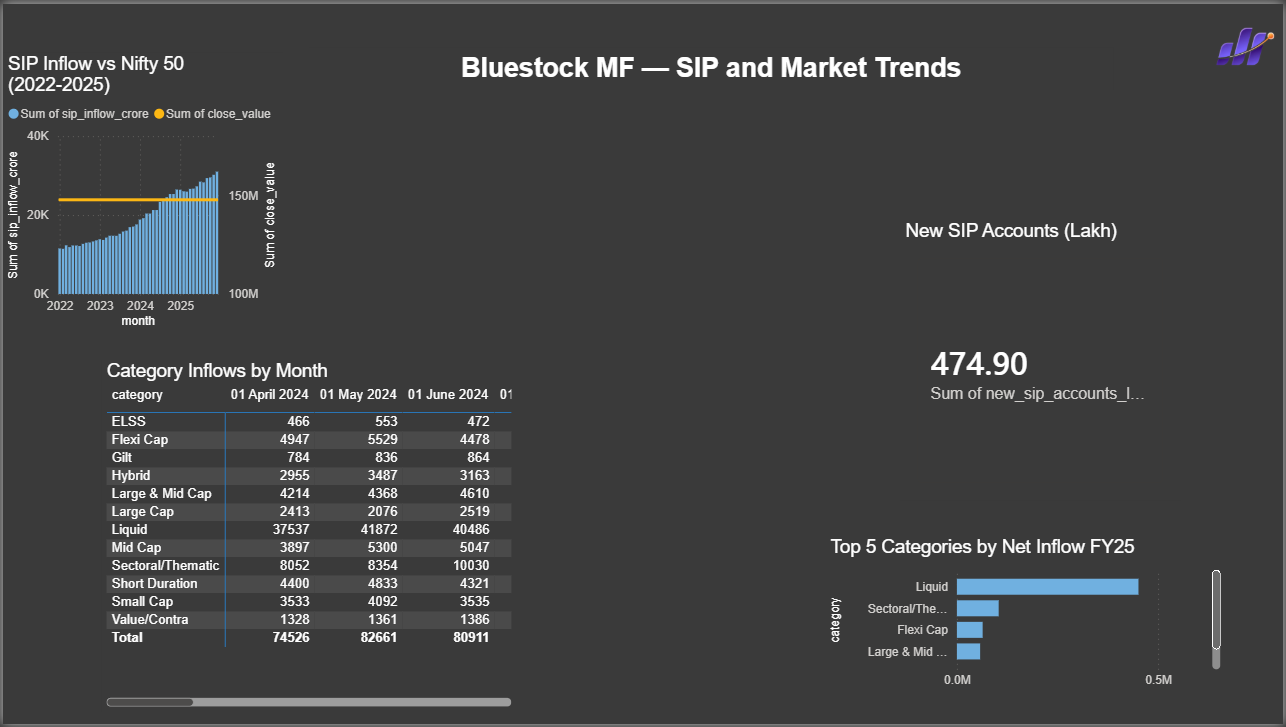

The dashboard page shown, as its layout file describes it:
{"tool":"powerbi","page":{"name":"SIP and Market Trends","canvas":[1280,720],"ordinal":3},"visuals":[{"type":"lineClusteredColumnComboChart","title":"SIP Inflow vs Nifty 50 (2022-2025)","fields":{"Category":["clean_sip_inflows.month"],"Y":["Sum(clean_sip_inflows.sip_inflow_crore)"],"Y2":["Sum(clean_benchmark_indices.close_value)"]},"box":[0,48.6,280,280],"z":0},{"type":"pivotTable","title":"Category Inflows by Month","fields":{"Rows":["clean_category_inflows.category"],"Columns":["clean_category_inflows.month"],"Values":["Sum(clean_category_inflows.net_inflow_crore)"]},"box":[98.6,355.7,414.3,351.4],"z":1},{"type":"clusteredBarChart","title":"Top 5 Categories by Net Inflow FY25","fields":{"Category":["clean_category_inflows.category"],"Y":["Sum(clean_category_inflows.net_inflow_crore)"]},"box":[822,532,400,160],"z":2},{"type":"cardVisual","title":"New SIP Accounts (Lakh)","fields":{"Data":["Sum(clean_sip_inflows.new_sip_accounts_lakh)"]},"box":[898,216,280,280],"z":3},{"type":"textbox","box":[306,44,804,42],"z":4},{"type":"image","box":[1204,0,76,86],"z":5}]}

Visuals, with their boxes in screenshot pixels (x1, y1, x2, y2), scaled from the page's 1280x720 canvas onto the 1286x727 screenshot:
"SIP Inflow vs Nifty 50 (2022-2025)" lineClusteredColumnComboChart: [0,49,281,332]
"Category Inflows by Month" pivotTable: [99,359,515,714]
"Top 5 Categories by Net Inflow FY25" clusteredBarChart: [826,537,1228,699]
"New SIP Accounts (Lakh)" cardVisual: [902,218,1184,501]
textbox: [307,44,1115,87]
image: [1210,0,1285,87]
